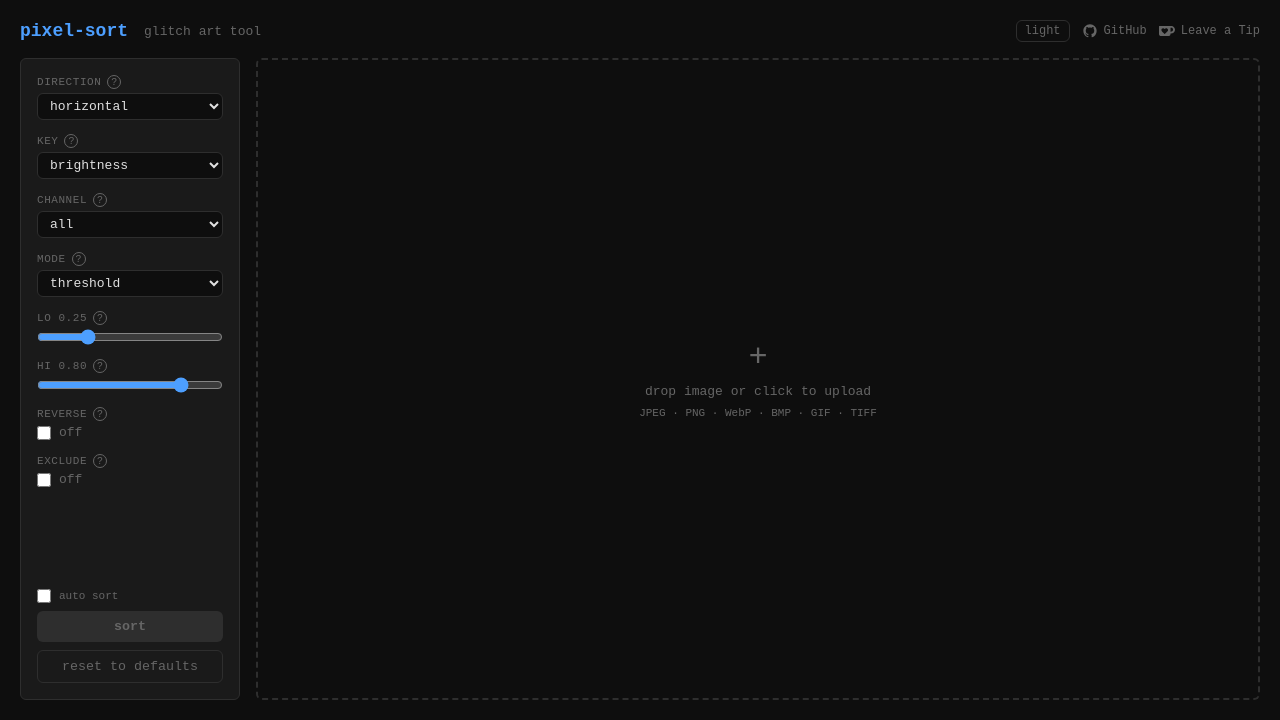
Test case: PixelSorter — radial/spoke controls › focal point section appears when direction is radial
The width and height of the screenshot is (1280, 720).
Select "radial" in the dropdown showing "horizontal" below "direction" at (130, 106), box 37,93 -> 223,120
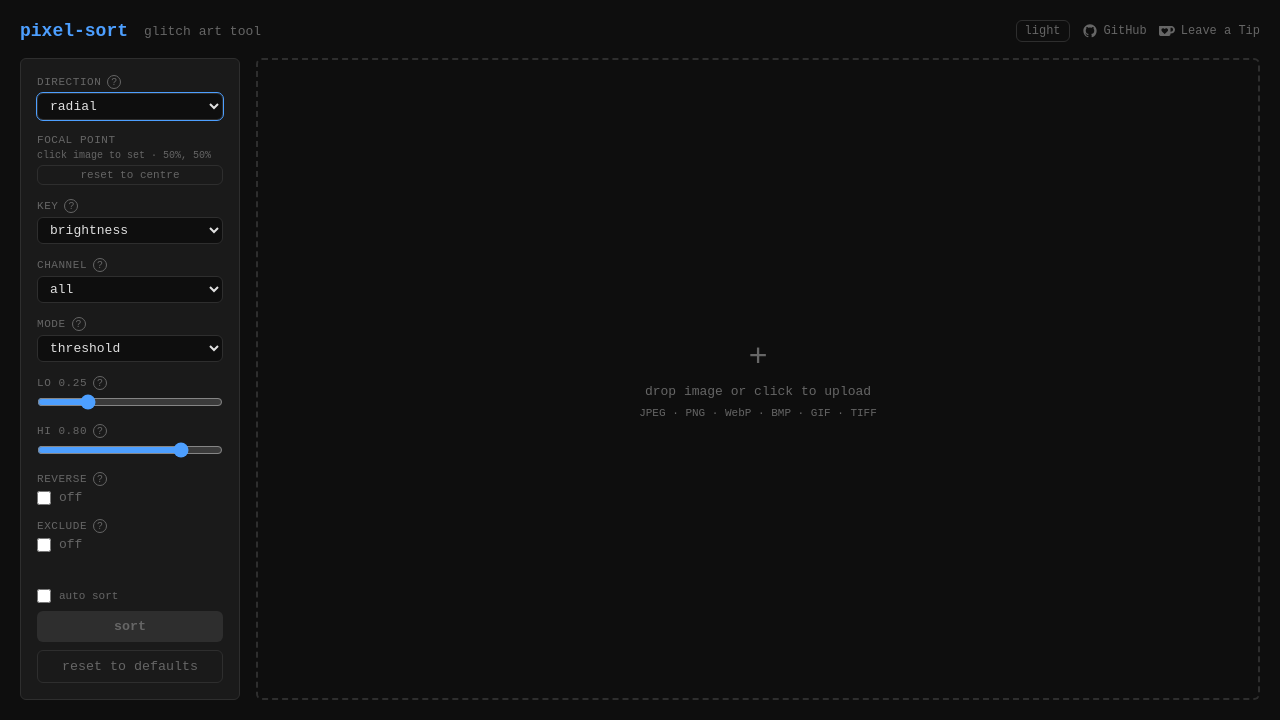
Expected: the text "focal point" is shown, 37,134 -> 116,146
